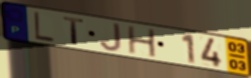1: (180, 33, 198, 66)
4: (199, 36, 224, 69)
H: (126, 25, 159, 60)
J: (99, 22, 124, 53)
L: (32, 10, 56, 44)
T: (61, 16, 86, 47)
